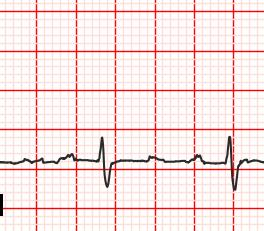Poor R Progression: (223, 134, 237, 166), (97, 133, 108, 163)
ST Depression: (222, 157, 248, 194), (95, 157, 117, 189)
